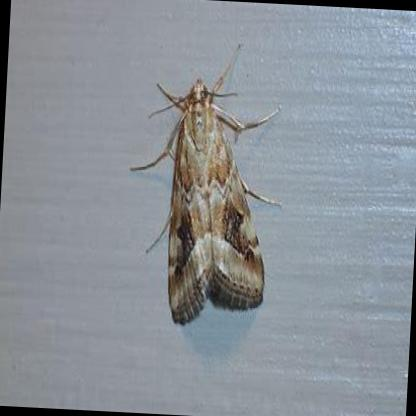Hellula undalis: (121, 39, 287, 331)
